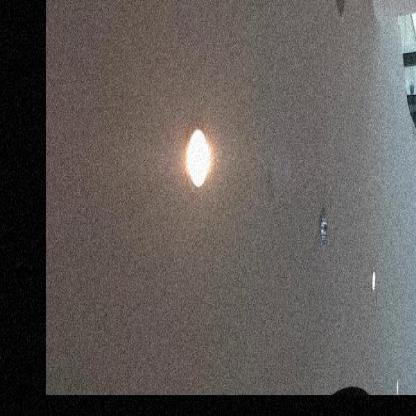light_on: (178, 104, 216, 201), (366, 260, 380, 299)
